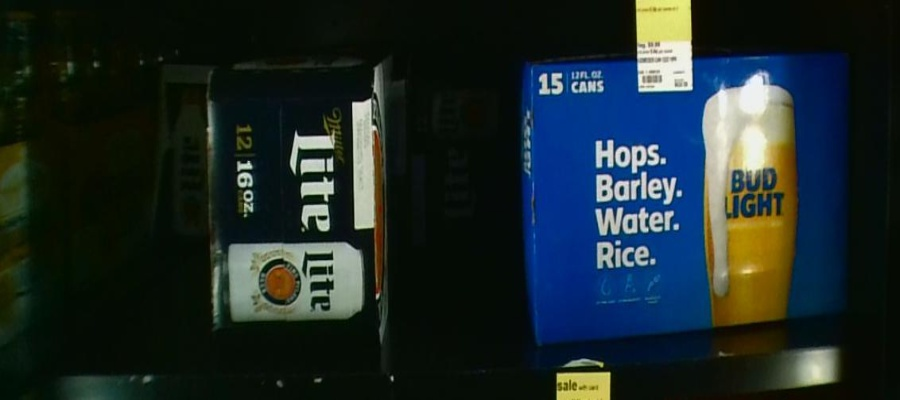bottle: (522, 56, 850, 343), (205, 64, 390, 358), (409, 56, 510, 251), (157, 61, 210, 259)
